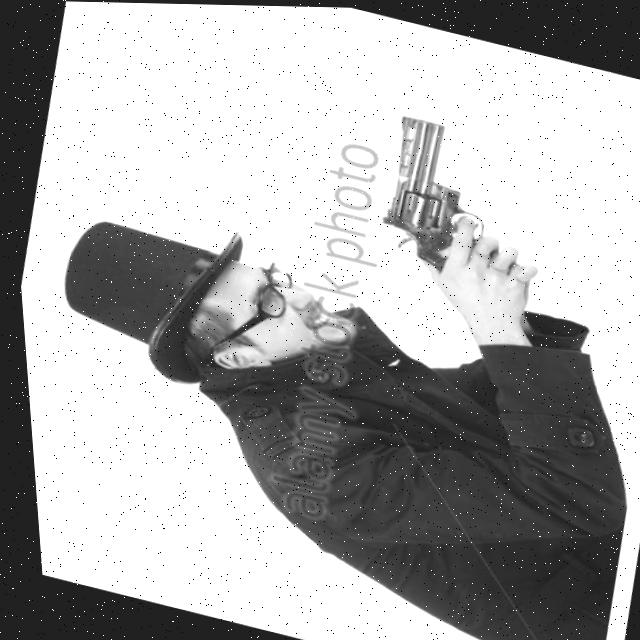pistol: (359, 107, 508, 280)
